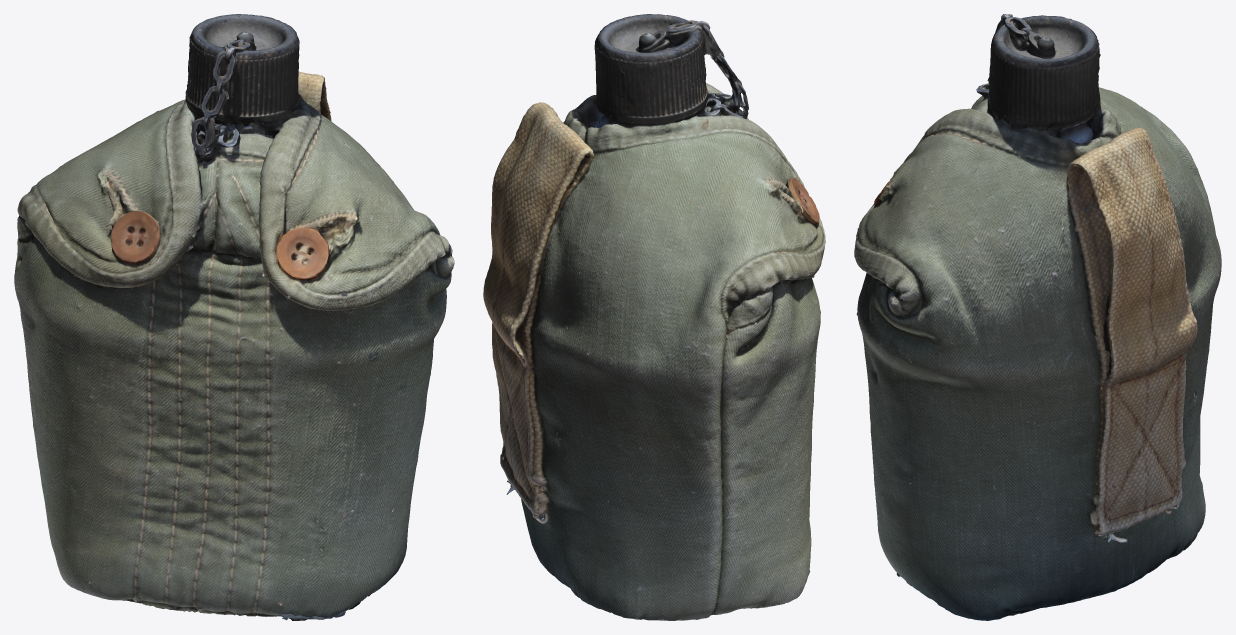
3 views of the same model, side by side, from view 1: azimuth 30°, elevation 25°; view 2: azimuth 150°, elevation 25°; view 3: azimuth 270°, elevation 25° (orthographic).
Visible parts, largest first — view 1: Object_2; view 2: Object_2; view 3: Object_2.
Part boxes in pixels (x1,y1,x2,y2): Object_2: (14,14,454,620); Object_2: (483,14,825,620); Object_2: (854,14,1221,620).
Size of the model in its own units: 18.95 by 28.95 by 18.08.
1 material, 1 textured.
